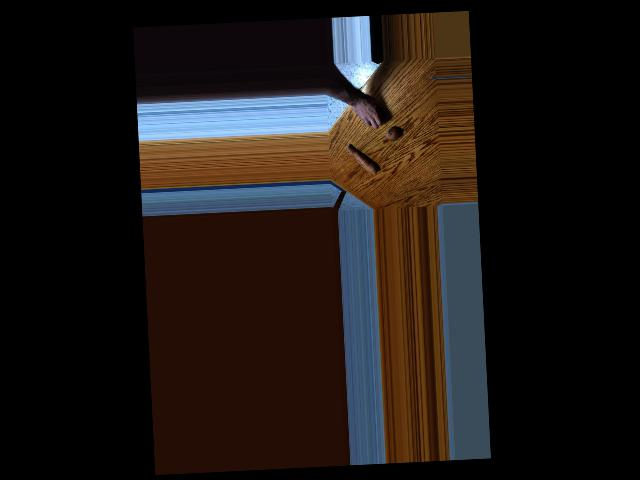onion: (372, 108, 386, 123)
